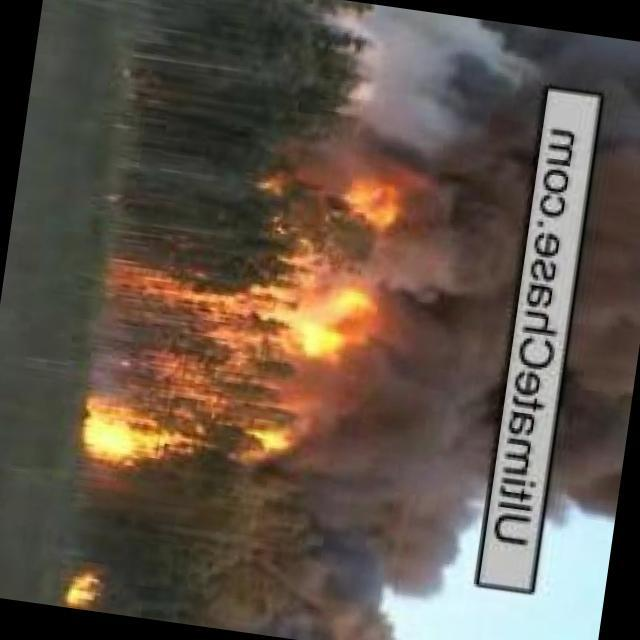Fire: (80, 254, 380, 497), (312, 173, 411, 232), (66, 573, 101, 612)
